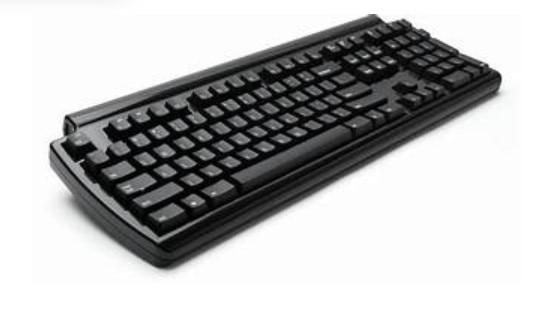Keyboard: (48, 14, 502, 270)
